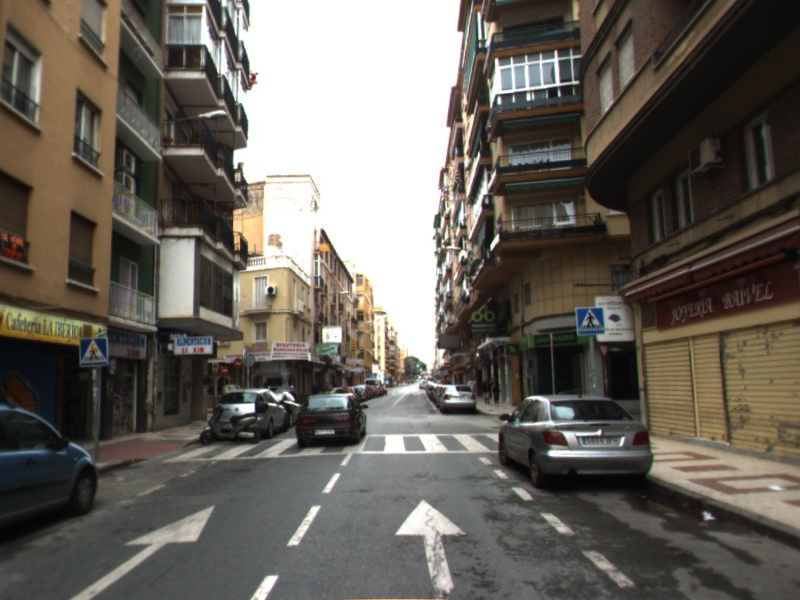STRAIGHT: (66, 499, 218, 600), (392, 494, 470, 600)
